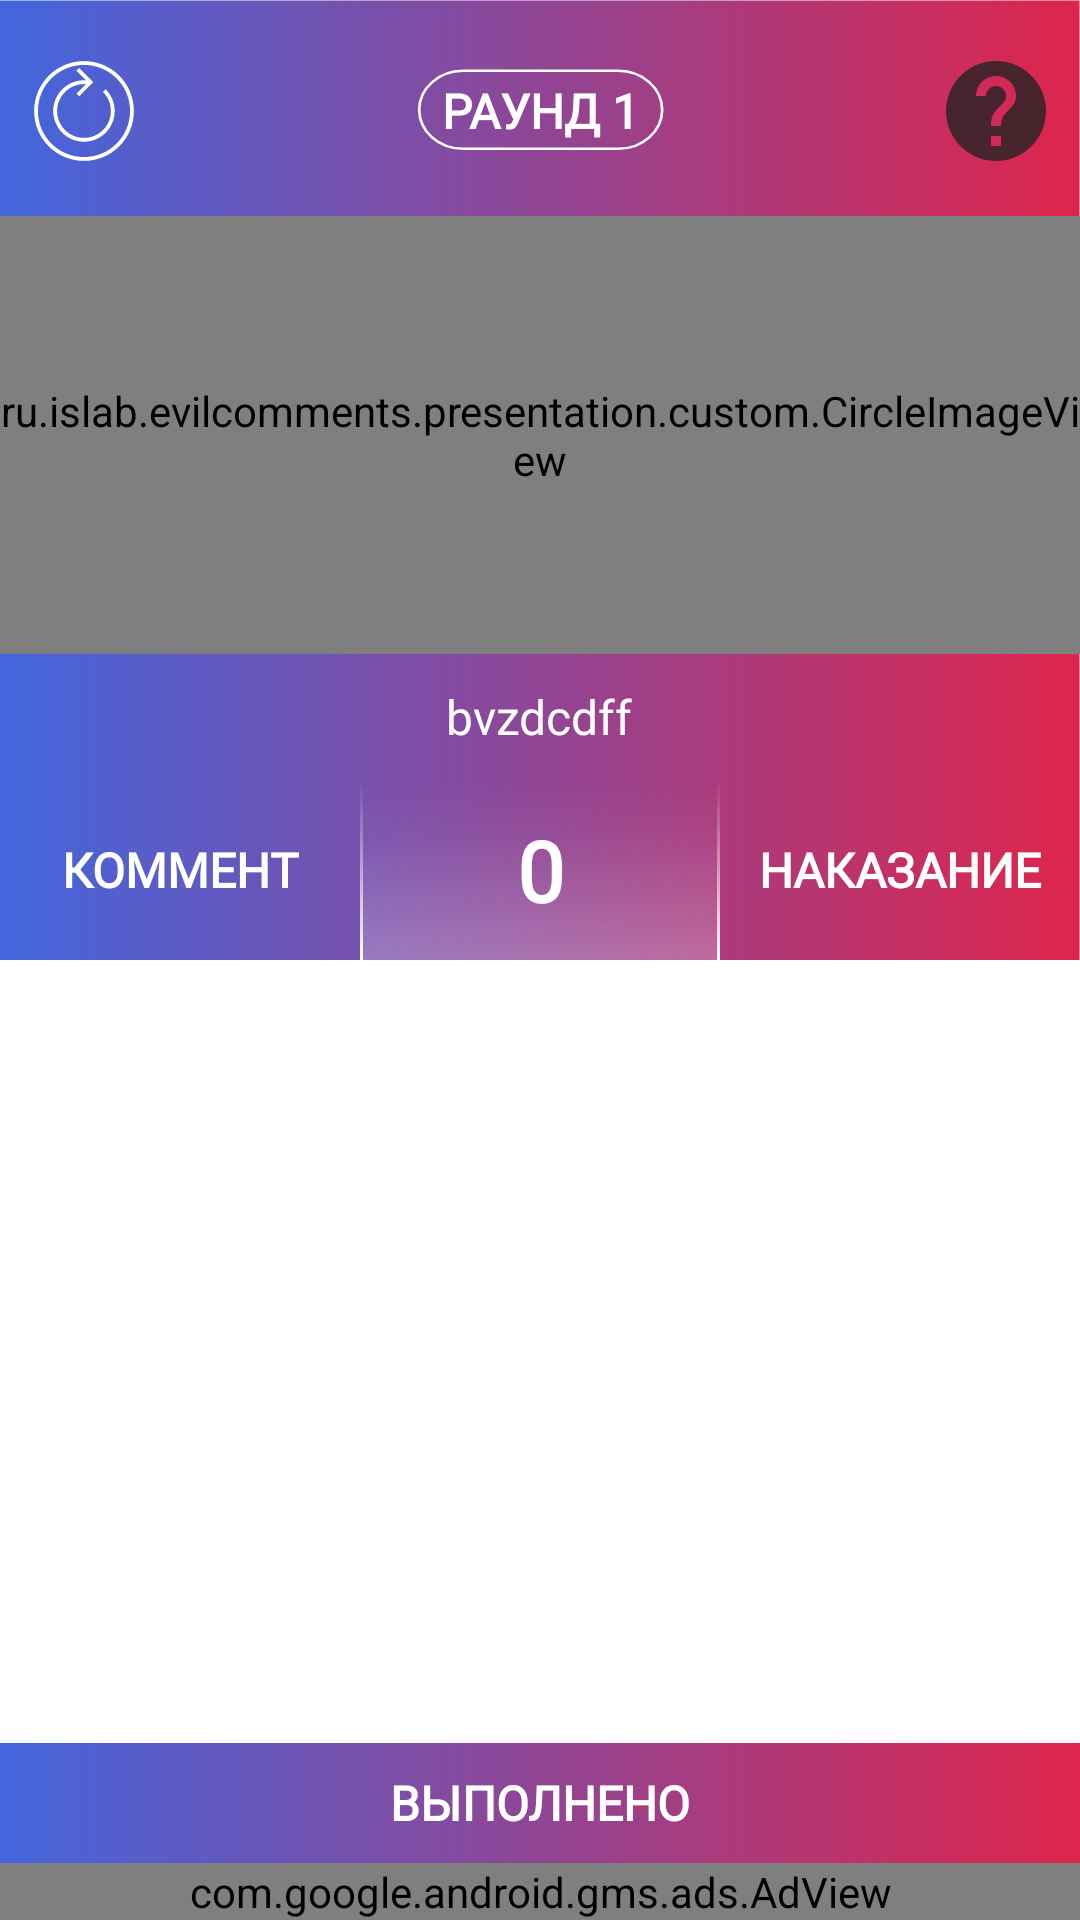

Icon click points for this 1080 x 1920 phone screenshot, format point (x, y):
help: point (996, 111)
reload: point (84, 111)
